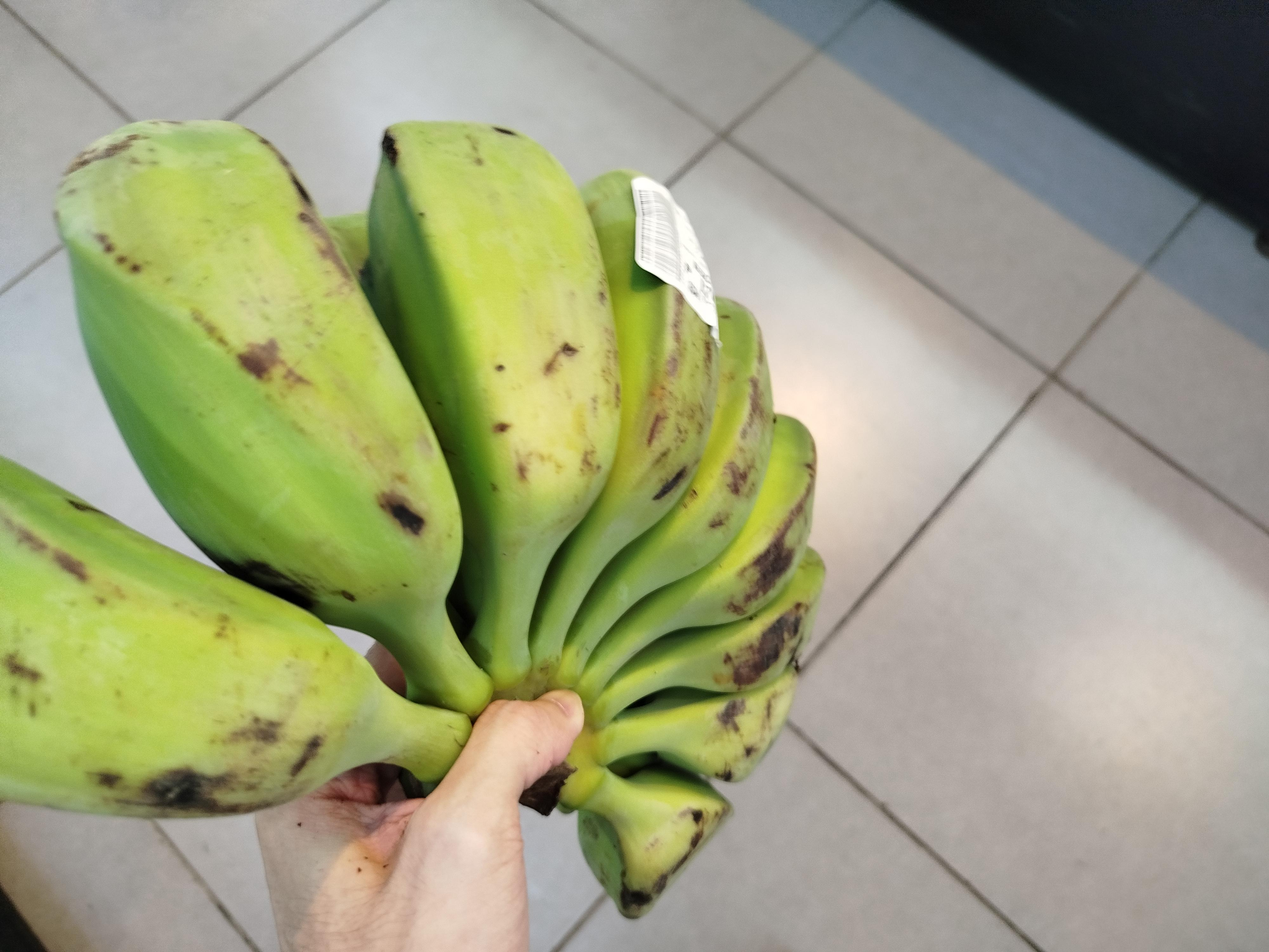underripe: (0, 121, 824, 917)
